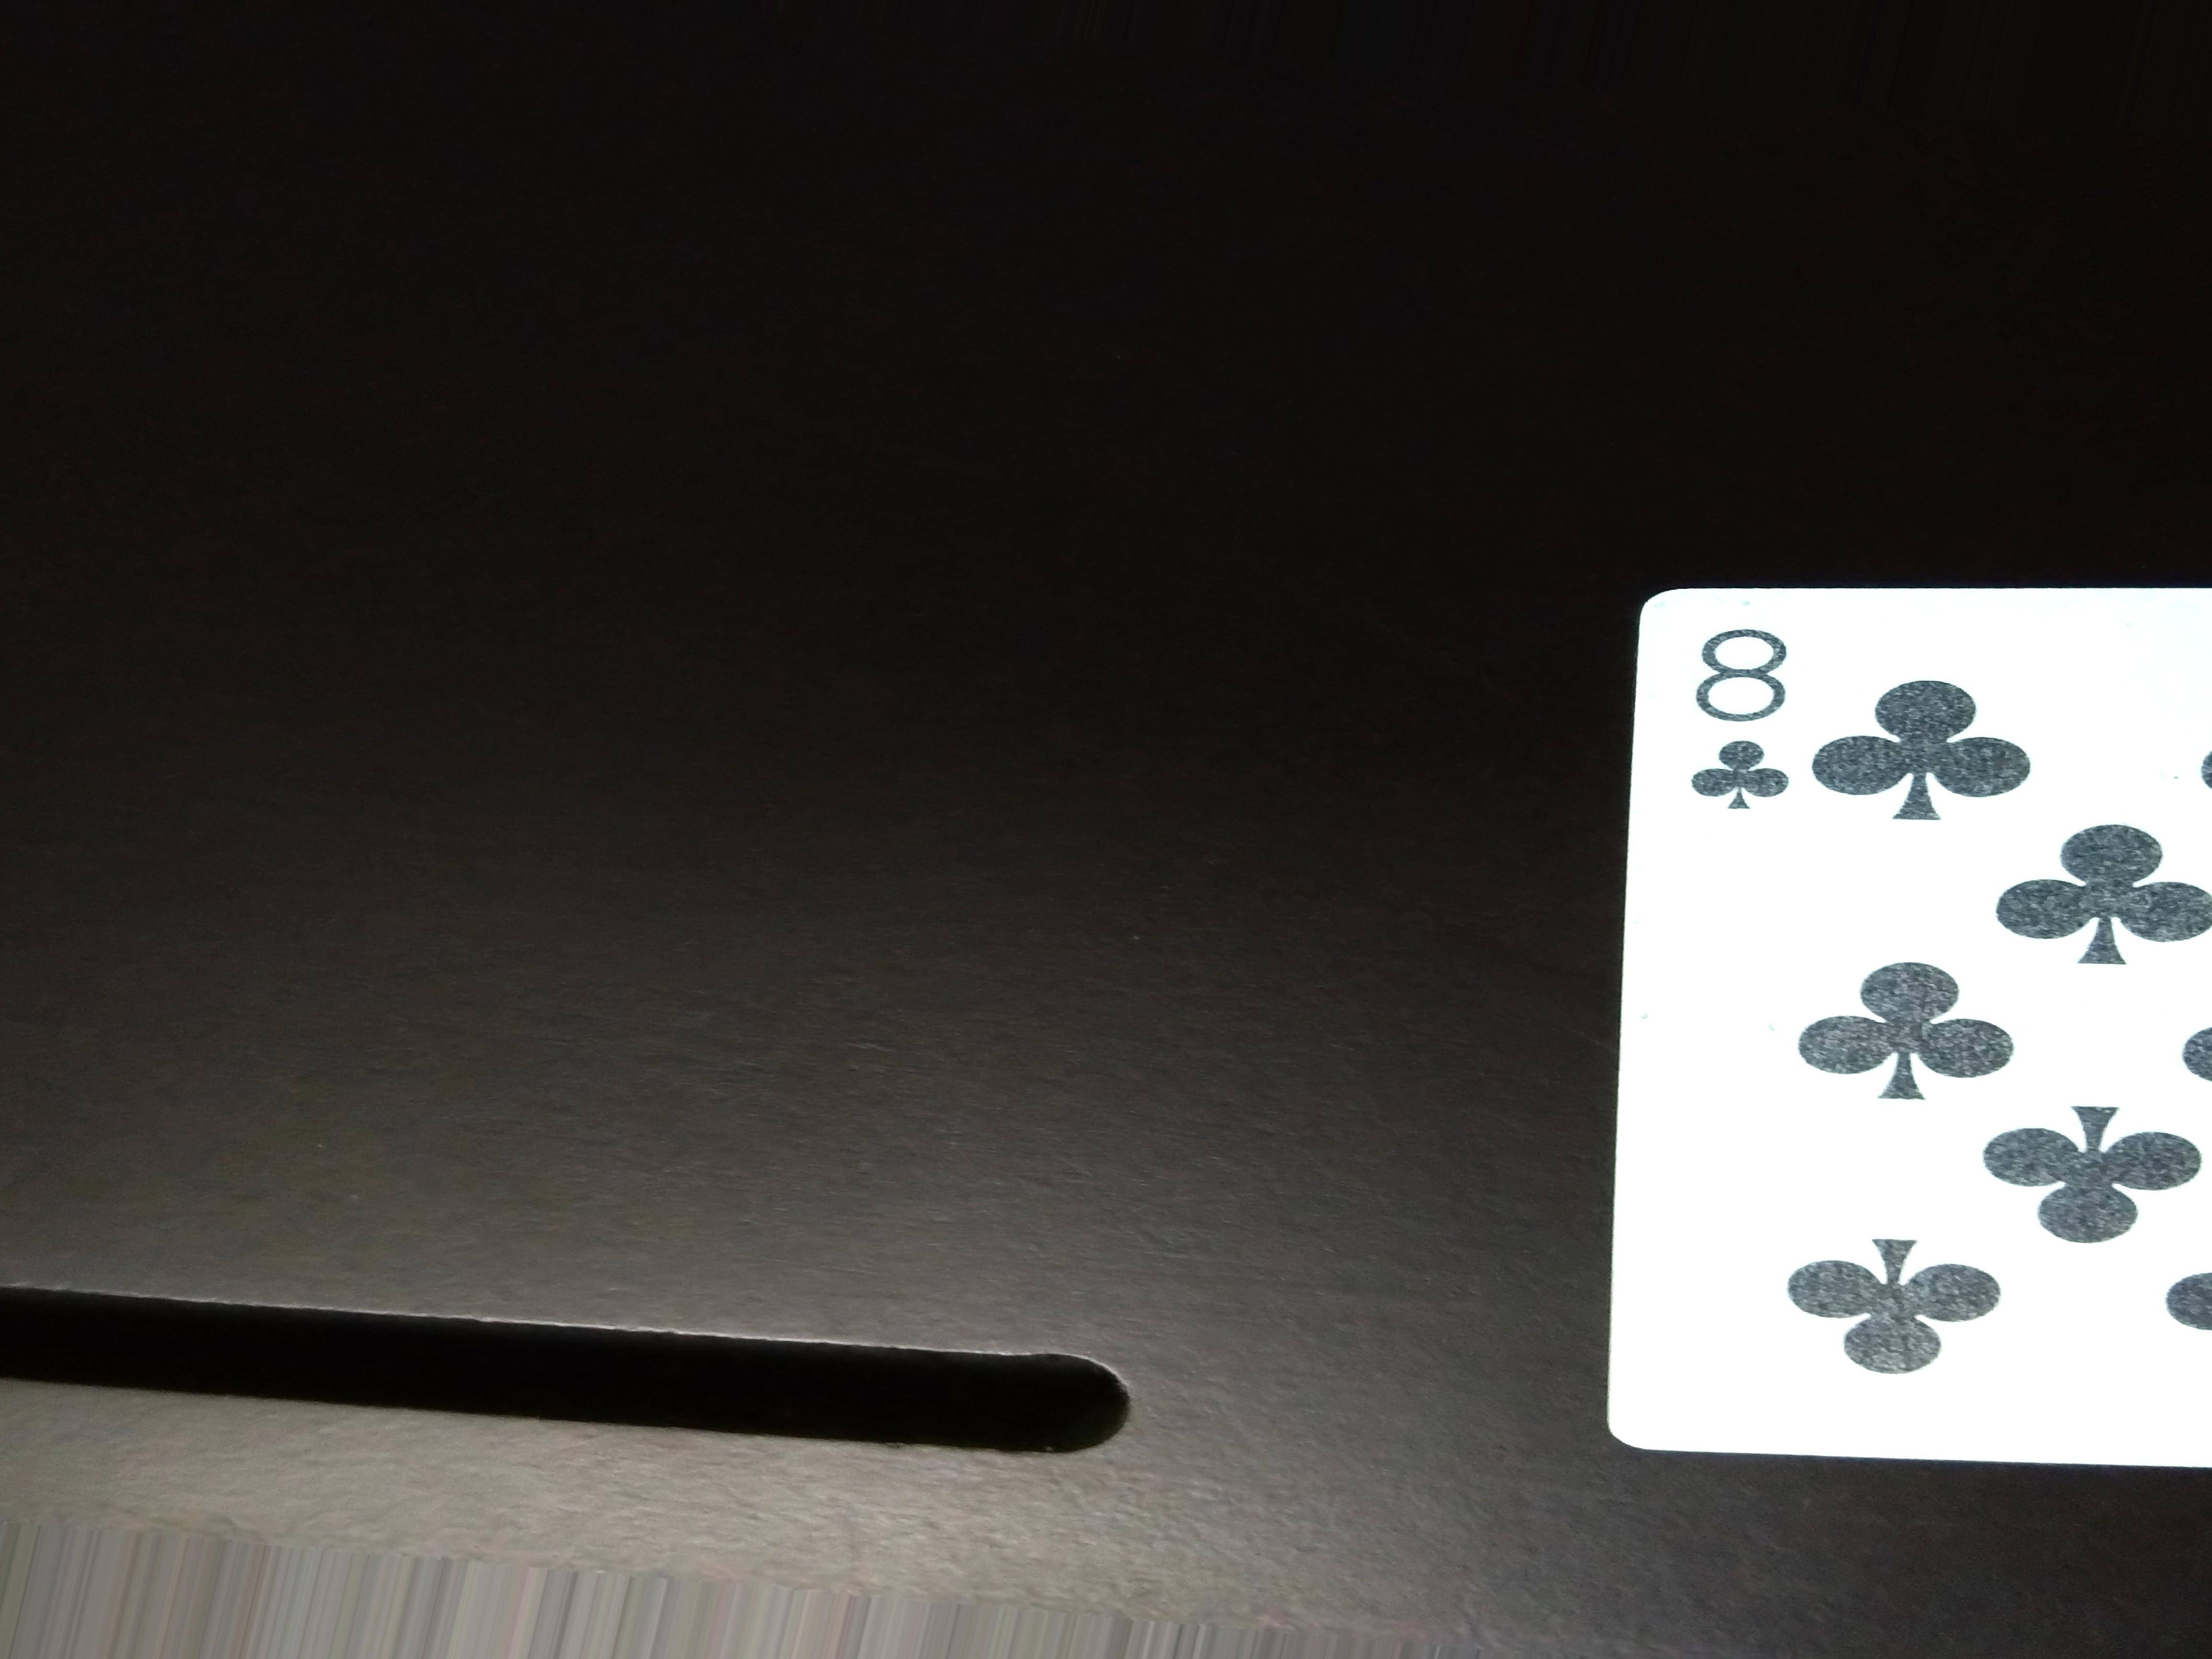8C: (1669, 596, 1817, 845)
